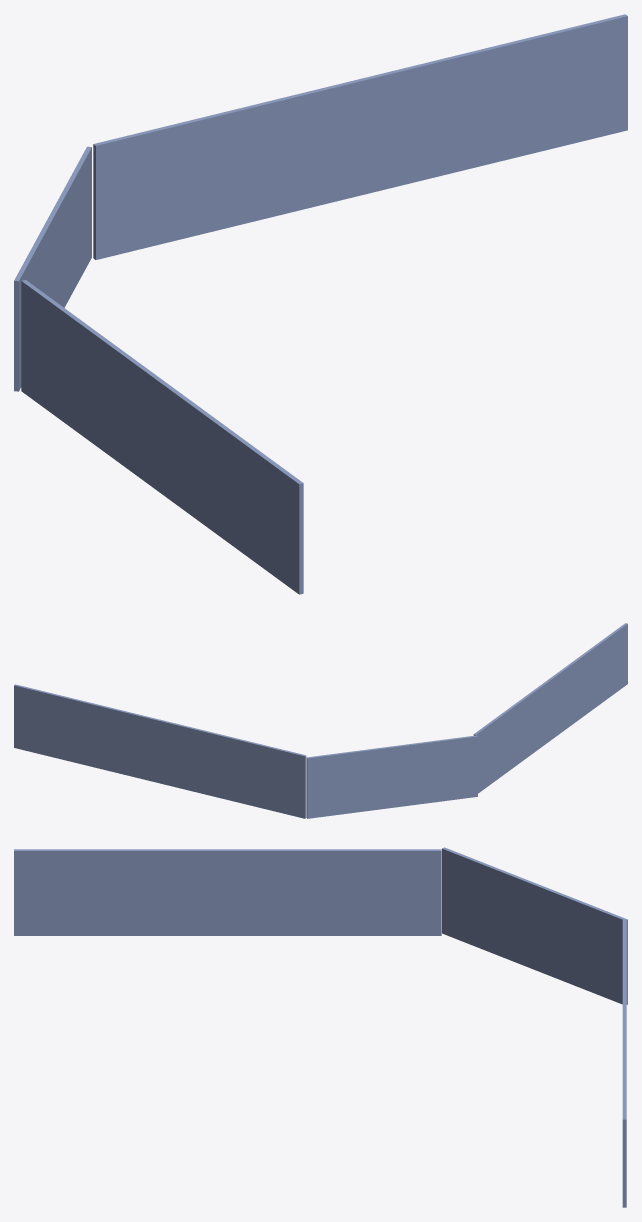
File: bardavidrio.obj
3 renders of one model, top to bottom at view 1: azimuth 30°, elevation 25°; view 2: azimuth 150°, elevation 25°; view 3: azimuth 270°, elevation 25°, orthographic. The views are drawn at different scales.
Parts seen in each view (by area): view 1: Cube.005; view 2: Cube.005; view 3: Cube.005.
Boxes of the visible parts, box(x1,y1,x2,y2) form: Cube.005: box(14, 14, 627, 594); Cube.005: box(14, 623, 627, 818); Cube.005: box(14, 847, 627, 1207).
Bounding box in the file's own units: 26.02 × 3.89 × 24.65.
